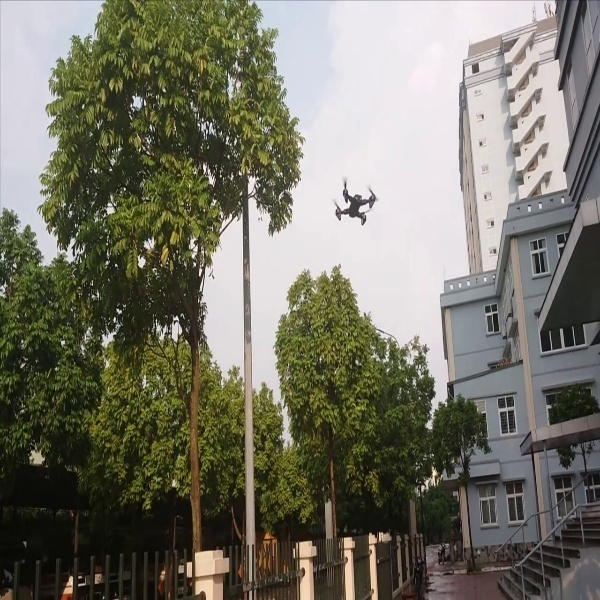drone: (322, 170, 384, 231)
